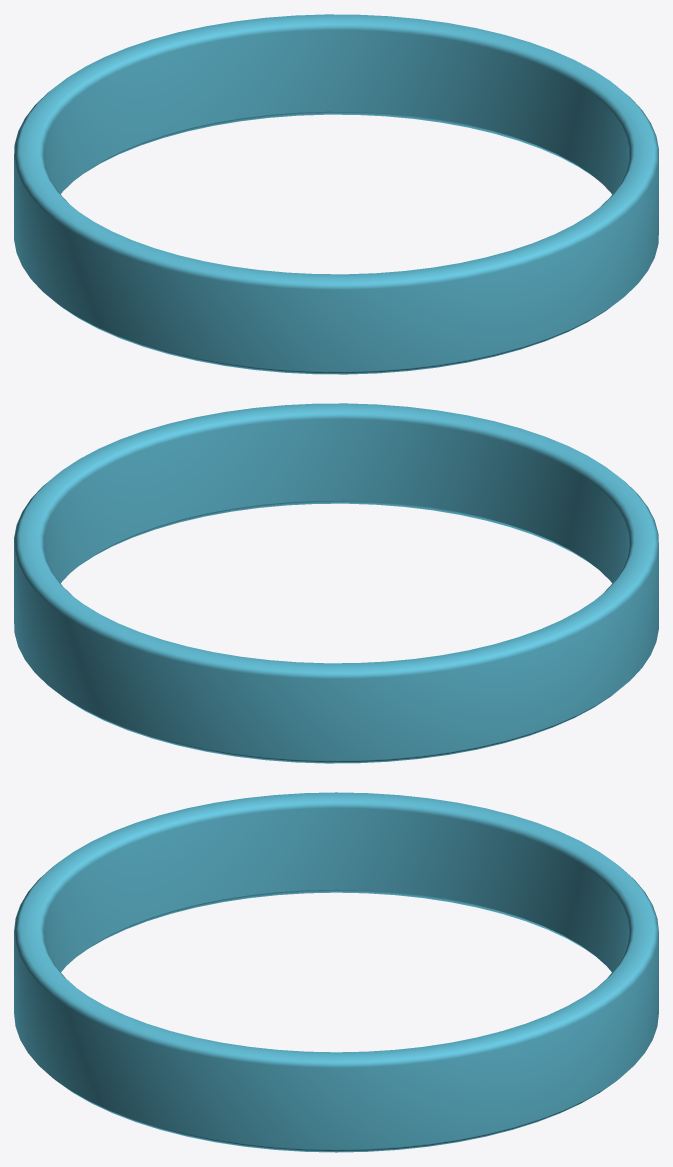
The picture shows the model from 3 angles, top to bottom: view 1: azimuth 30°, elevation 25°; view 2: azimuth 150°, elevation 25°; view 3: azimuth 270°, elevation 25°; orthographic projection.
Visible parts, largest first — view 1: seal_body; view 2: seal_body; view 3: seal_body.
Part boxes in pixels (x1=…): seal_body: x1=14, y1=14, x2=658, y2=374; seal_body: x1=14, y1=403, x2=658, y2=763; seal_body: x1=14, y1=792, x2=658, y2=1152.
Size of the model in its own units: 0.1004 by 0.0159 by 0.1004.
